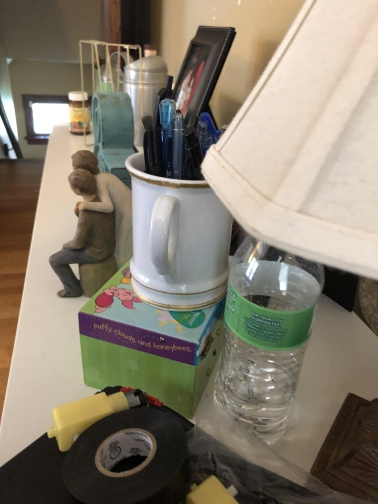bottle: (212, 204, 323, 448)
